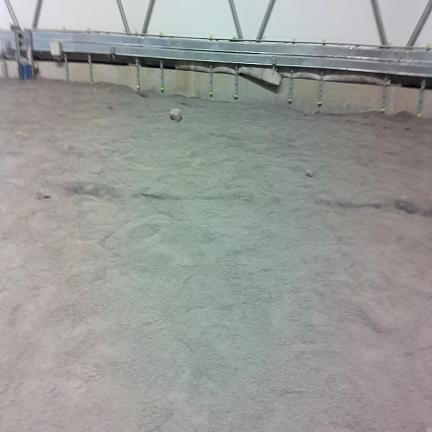Rock: (170, 109, 181, 121), (37, 189, 50, 199), (305, 169, 313, 177)
